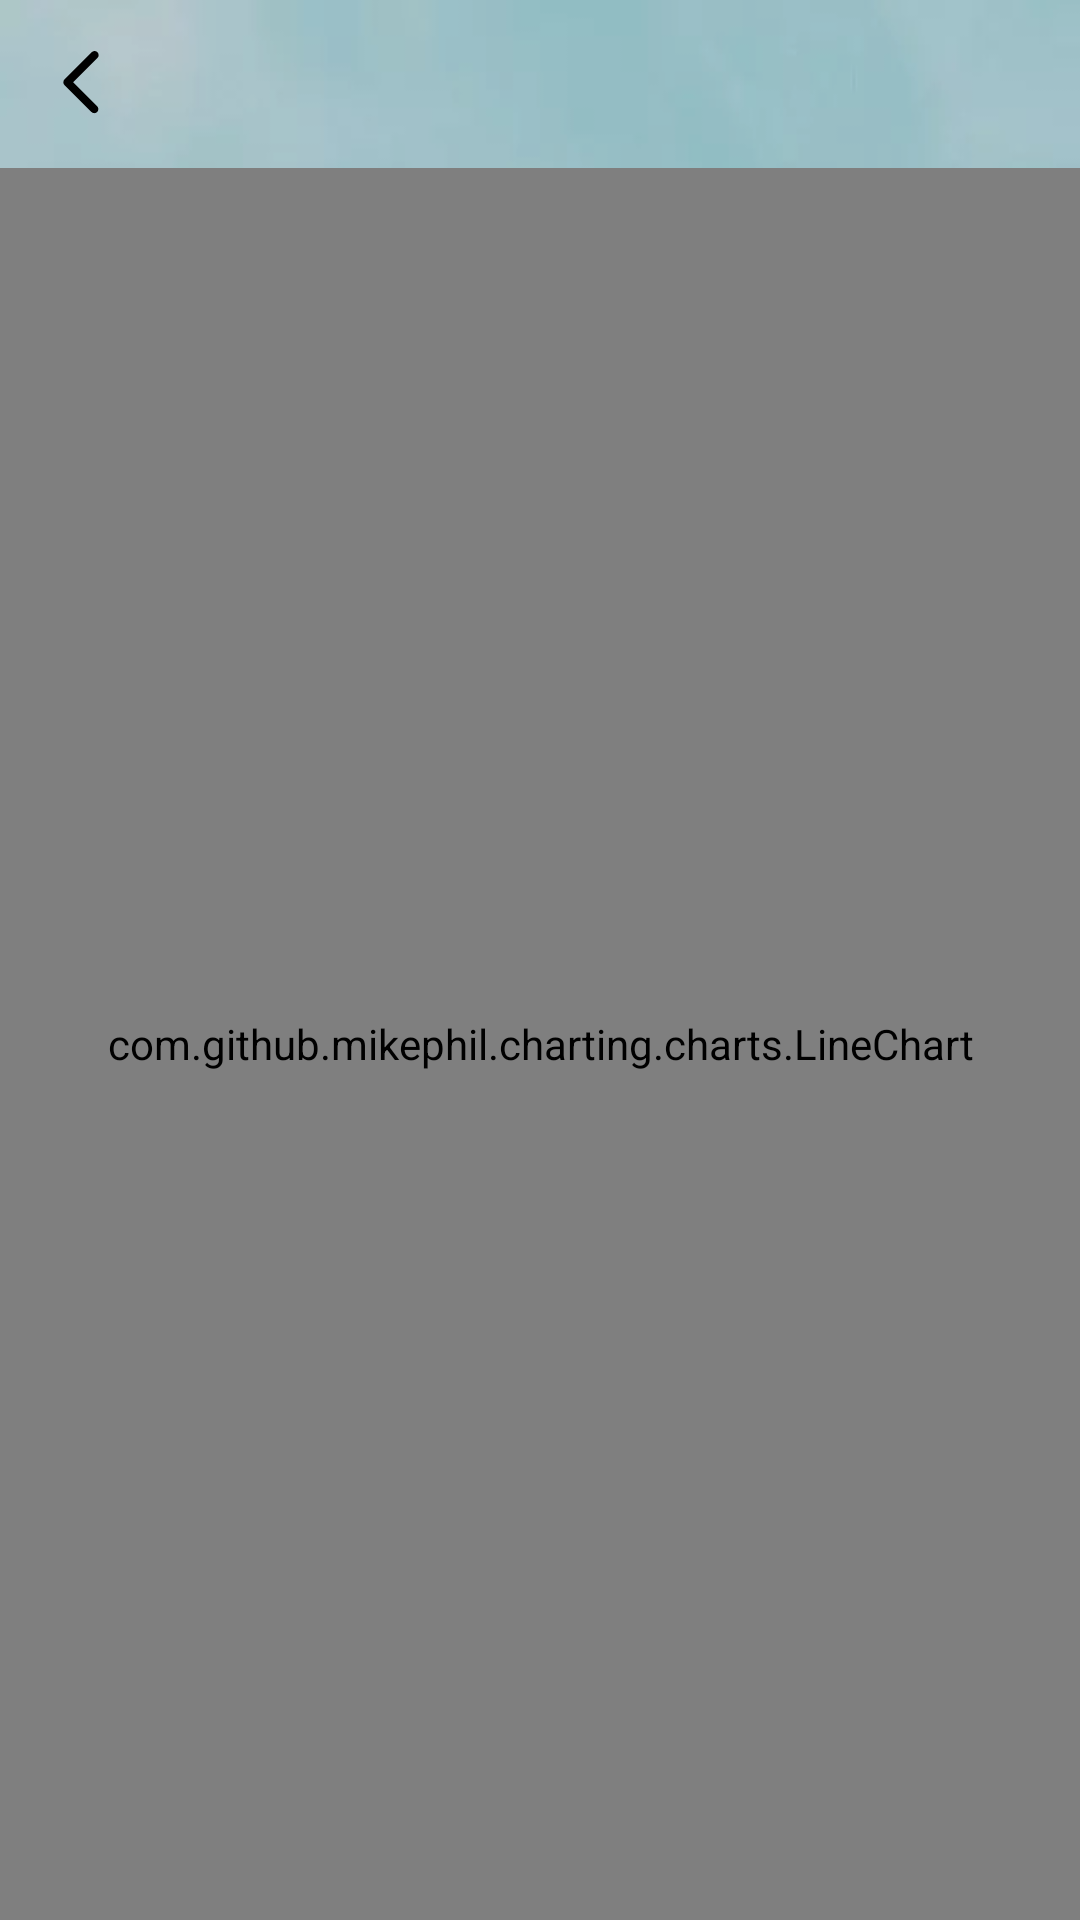

Named icons in this screenshot (1080 x 1920) and their centers, (x=x, y=y):
back: (x=81, y=82)
